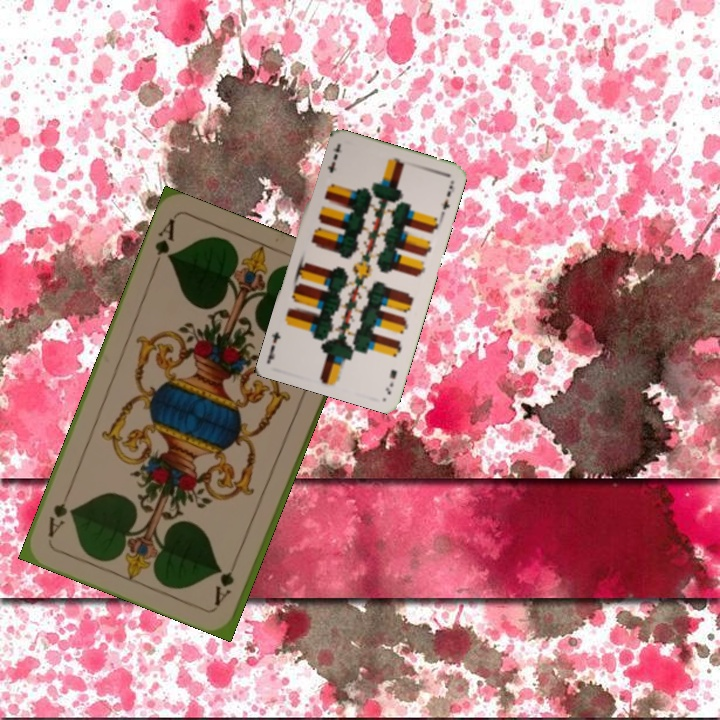E7: (381, 365, 399, 397), (323, 149, 340, 175)
GA: (210, 552, 241, 609), (149, 215, 178, 272)
